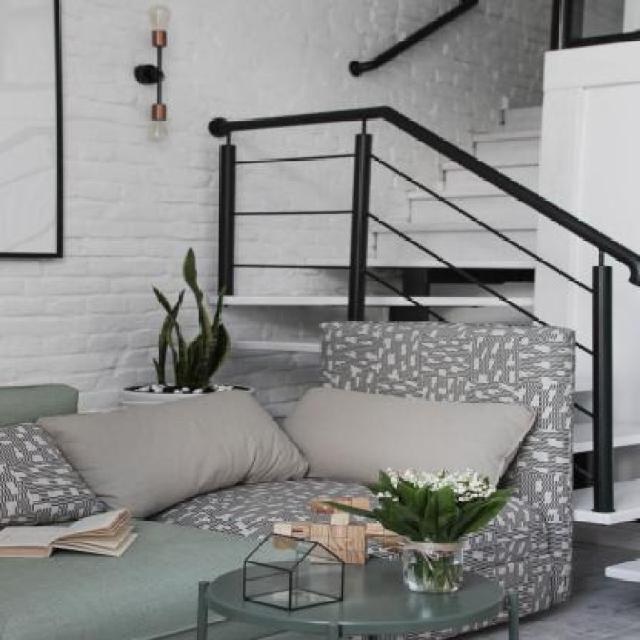stair: (174, 48, 640, 608)
